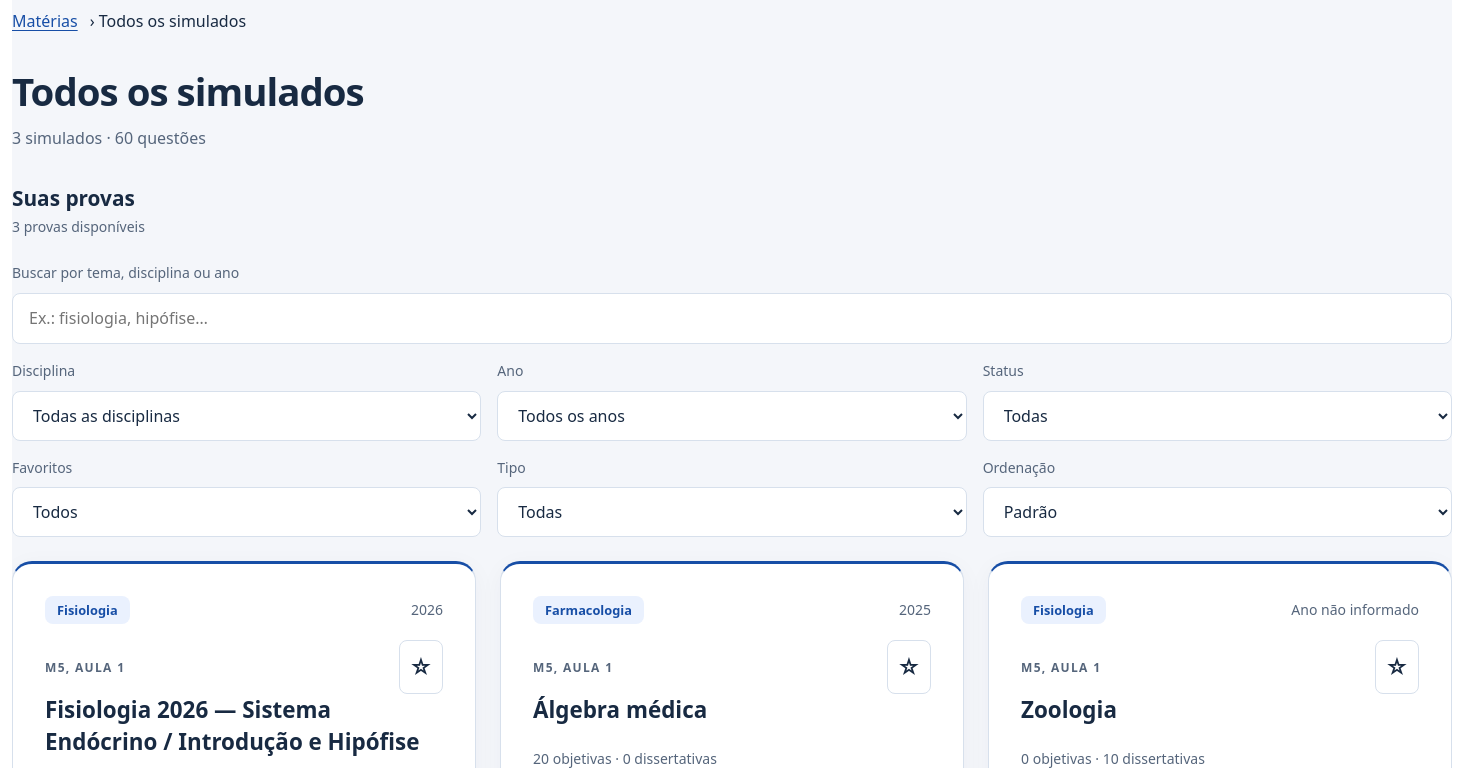
Scenario: falha de escrita preserva aria-pressed e mostra aviso honesto
Click the 1st button "☆": (421,667) x1=399 y1=640 x2=443 y2=694
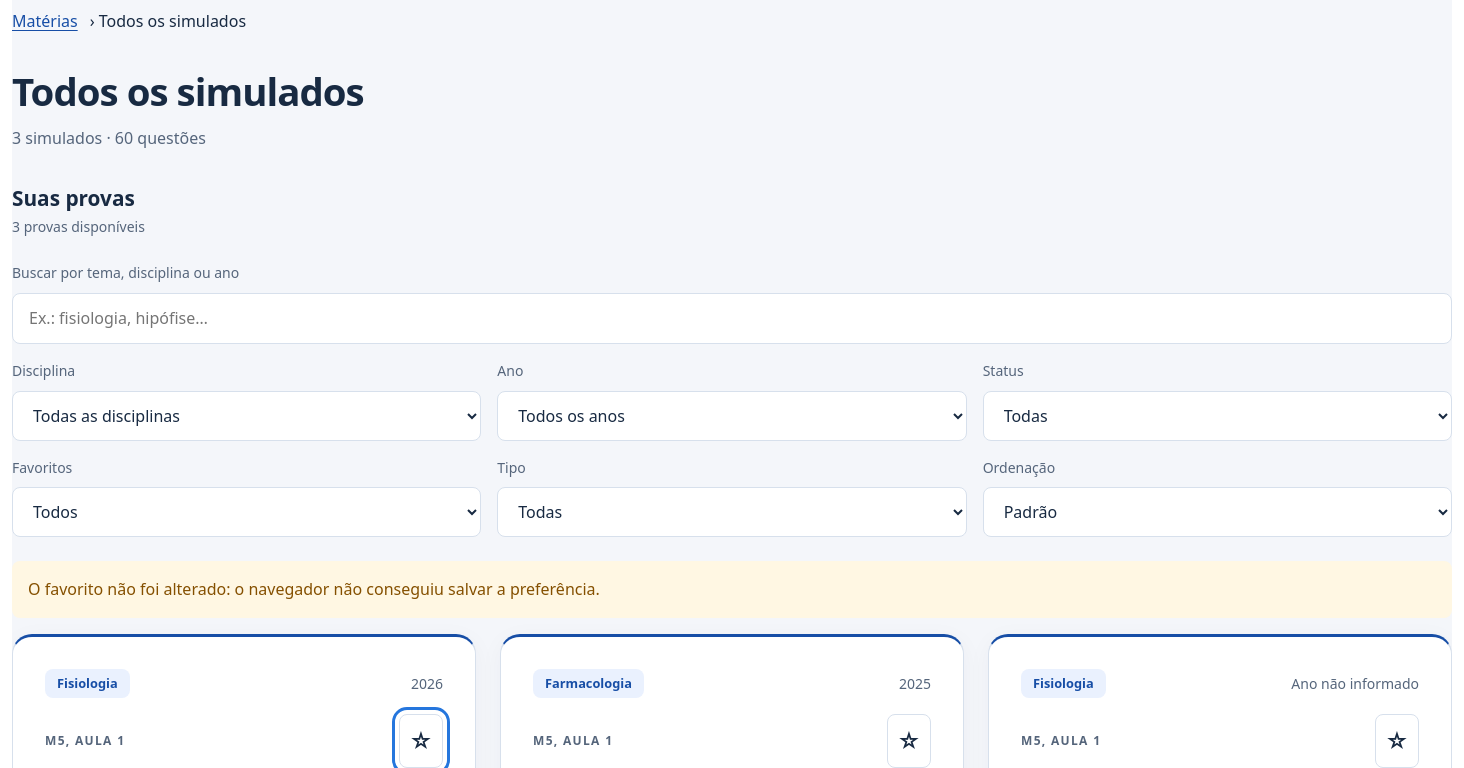
Result: the message shows "O favorito não foi alterado" at x1=28 y1=578 x2=600 y2=600
